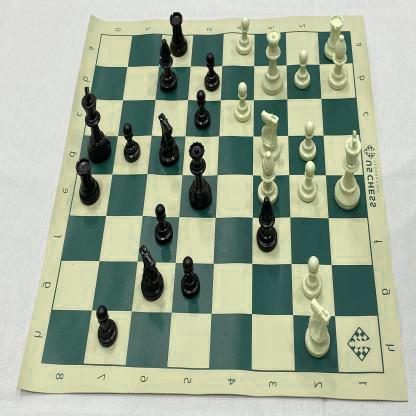black-bishop: (252, 192, 280, 254), (157, 35, 180, 97)
black-king: (80, 81, 112, 165)
black-knight: (137, 241, 166, 305), (155, 107, 180, 170)
black-pawn: (93, 302, 120, 350), (178, 252, 202, 302), (152, 200, 174, 247), (192, 88, 213, 132), (121, 121, 142, 164), (203, 50, 222, 93)
black-queen: (185, 139, 213, 217)
black-rook: (74, 152, 102, 209), (166, 8, 190, 61)
white-bishop: (255, 146, 282, 206), (325, 31, 351, 92)
white-king: (332, 127, 368, 214)
white-knight: (302, 298, 335, 360), (258, 105, 282, 163)
white-pawn: (300, 254, 325, 301), (296, 158, 320, 204), (233, 79, 255, 126), (293, 45, 314, 94), (233, 14, 256, 58), (298, 118, 319, 166)
white-queen: (260, 26, 288, 98)
white-rook: (322, 12, 348, 63)
